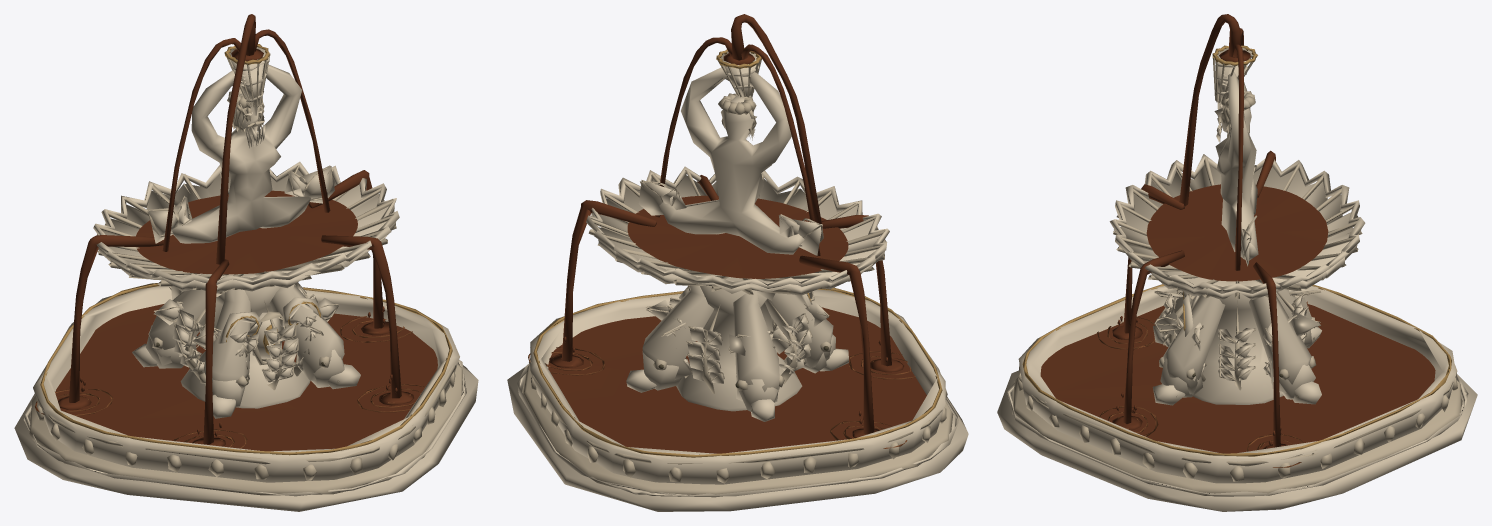
File: triton-chocolate-fountain-far.glb
The picture shows the model from 3 angles, left to right: view 1: azimuth 30°, elevation 25°; view 2: azimuth 150°, elevation 25°; view 3: azimuth 270°, elevation 25°; orthographic projection.
Visible parts, largest first — view 1: Fountain_Travertino • avorio antico.001, Fountain_Cioccolato fondente • liquido.001, Fountain_Pietra dei rilievi.001, Fountain_Bronzo dorato invecchiato.001, Fountain_Riflessi cioccolata al latte.001; view 2: Fountain_Travertino • avorio antico.001, Fountain_Cioccolato fondente • liquido.001, Fountain_Pietra dei rilievi.001, Fountain_Bronzo dorato invecchiato.001, Fountain_Riflessi cioccolata al latte.001; view 3: Fountain_Travertino • avorio antico.001, Fountain_Cioccolato fondente • liquido.001, Fountain_Pietra dei rilievi.001, Fountain_Bronzo dorato invecchiato.001, Fountain_Riflessi cioccolata al latte.001.
Boxes of the visible parts, bbox=[...] form: Fountain_Travertino • avorio antico.001: bbox=[14, 47, 478, 511]; Fountain_Cioccolato fondente • liquido.001: bbox=[55, 14, 437, 451]; Fountain_Pietra dei rilievi.001: bbox=[29, 53, 463, 495]; Fountain_Bronzo dorato invecchiato.001: bbox=[40, 44, 452, 455]; Fountain_Riflessi cioccolata al latte.001: bbox=[35, 316, 425, 448]; Fountain_Travertino • avorio antico.001: bbox=[507, 51, 968, 511]; Fountain_Cioccolato fondente • liquido.001: bbox=[548, 14, 926, 453]; Fountain_Pietra dei rilievi.001: bbox=[522, 59, 953, 497]; Fountain_Bronzo dorato invecchiato.001: bbox=[533, 48, 942, 457]; Fountain_Riflessi cioccolata al latte.001: bbox=[528, 347, 915, 448]; Fountain_Travertino • avorio antico.001: bbox=[997, 48, 1477, 511]; Fountain_Cioccolato fondente • liquido.001: bbox=[1040, 14, 1435, 453]; Fountain_Pietra dei rilievi.001: bbox=[1012, 55, 1462, 495]; Fountain_Bronzo dorato invecchiato.001: bbox=[1022, 45, 1451, 456]; Fountain_Riflessi cioccolata al latte.001: bbox=[1097, 301, 1307, 467].
Bounding box in the file's own units: 7.22 × 6.57 × 7.2.
